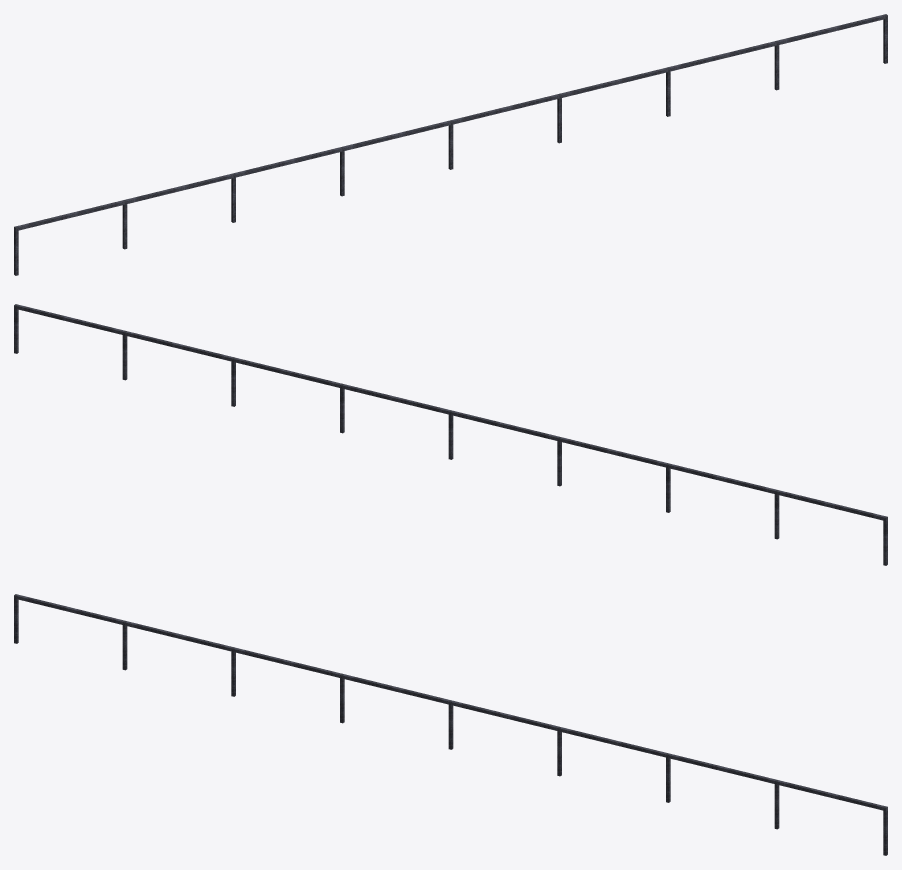
Rendered from M10_Z02_GuardRail03.glb.
3 renders of one model, top to bottom at view 1: azimuth 30°, elevation 25°; view 2: azimuth 150°, elevation 25°; view 3: azimuth 330°, elevation 25°, orthographic.
Parts seen in each view (by area): view 1: M10_Z02_GUARDRAIL03; view 2: M10_Z02_GUARDRAIL03; view 3: M10_Z02_GUARDRAIL03.
Boxes of the visible parts, x1,y1,x2,y2 form: M10_Z02_GUARDRAIL03: (14, 14, 887, 275); M10_Z02_GUARDRAIL03: (14, 304, 887, 565); M10_Z02_GUARDRAIL03: (14, 594, 887, 855).
Bounding box in the file's own units: 17.89 × 0.938 × 0.062.
Materials: 1 (1 with a texture image).
